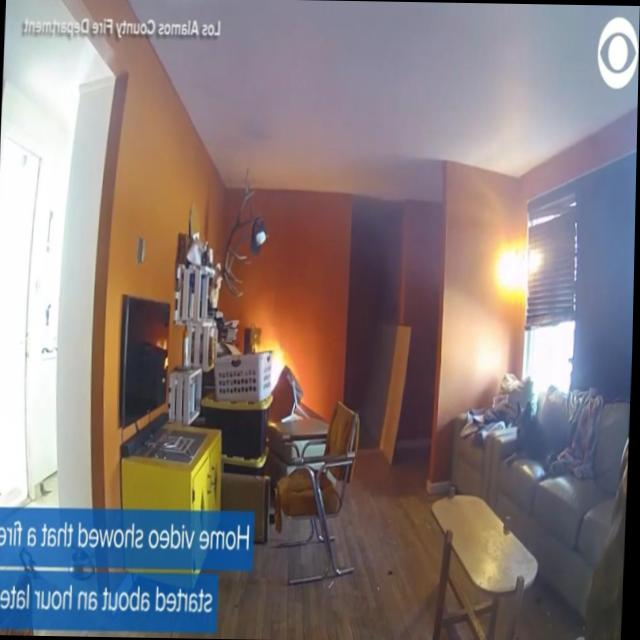fire: (249, 332, 292, 391)
